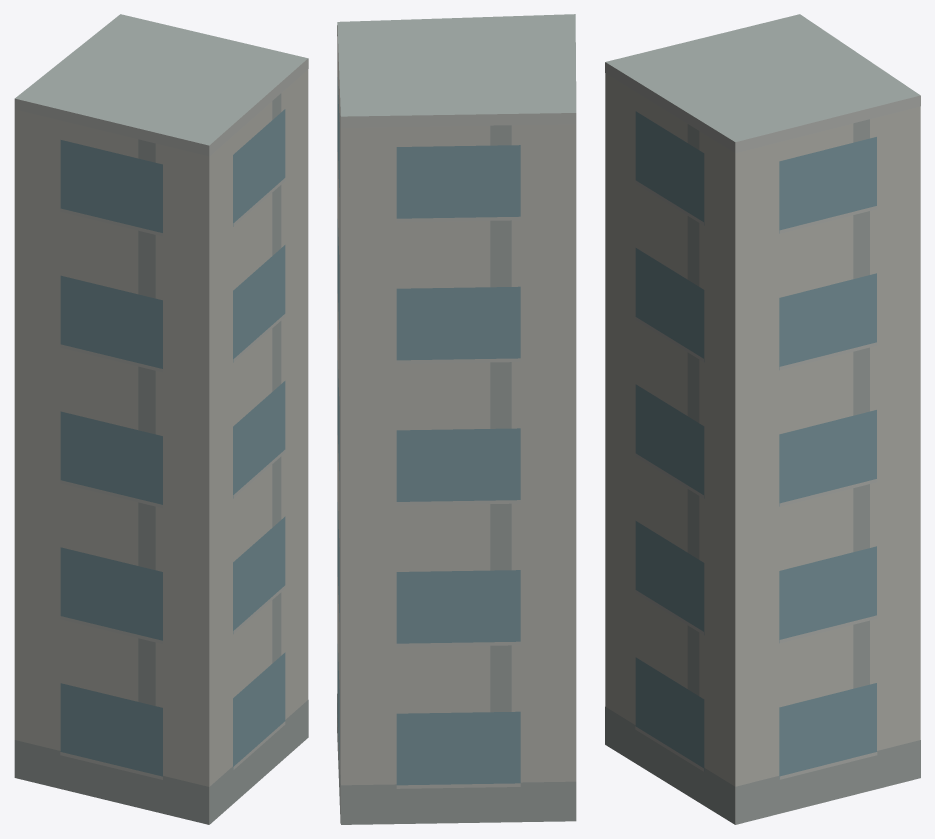
Rendered from survey-upis-32924839.glb.
3 renders of one model, left to right at view 1: azimuth 30°, elevation 25°; view 2: azimuth 150°, elevation 25°; view 3: azimuth 270°, elevation 25°, orthographic. The views are drawn at different scales.
Visible parts, largest first — view 1: survey-upis-32924839.tmp; view 2: survey-upis-32924839.tmp; view 3: survey-upis-32924839.tmp.
Part boxes in pixels (x1,y1,x2,y2): survey-upis-32924839.tmp: (14, 14, 308, 824); survey-upis-32924839.tmp: (337, 14, 576, 824); survey-upis-32924839.tmp: (605, 14, 920, 824).
Size of the model in its own units: 6.15 by 15.25 by 6.4.
